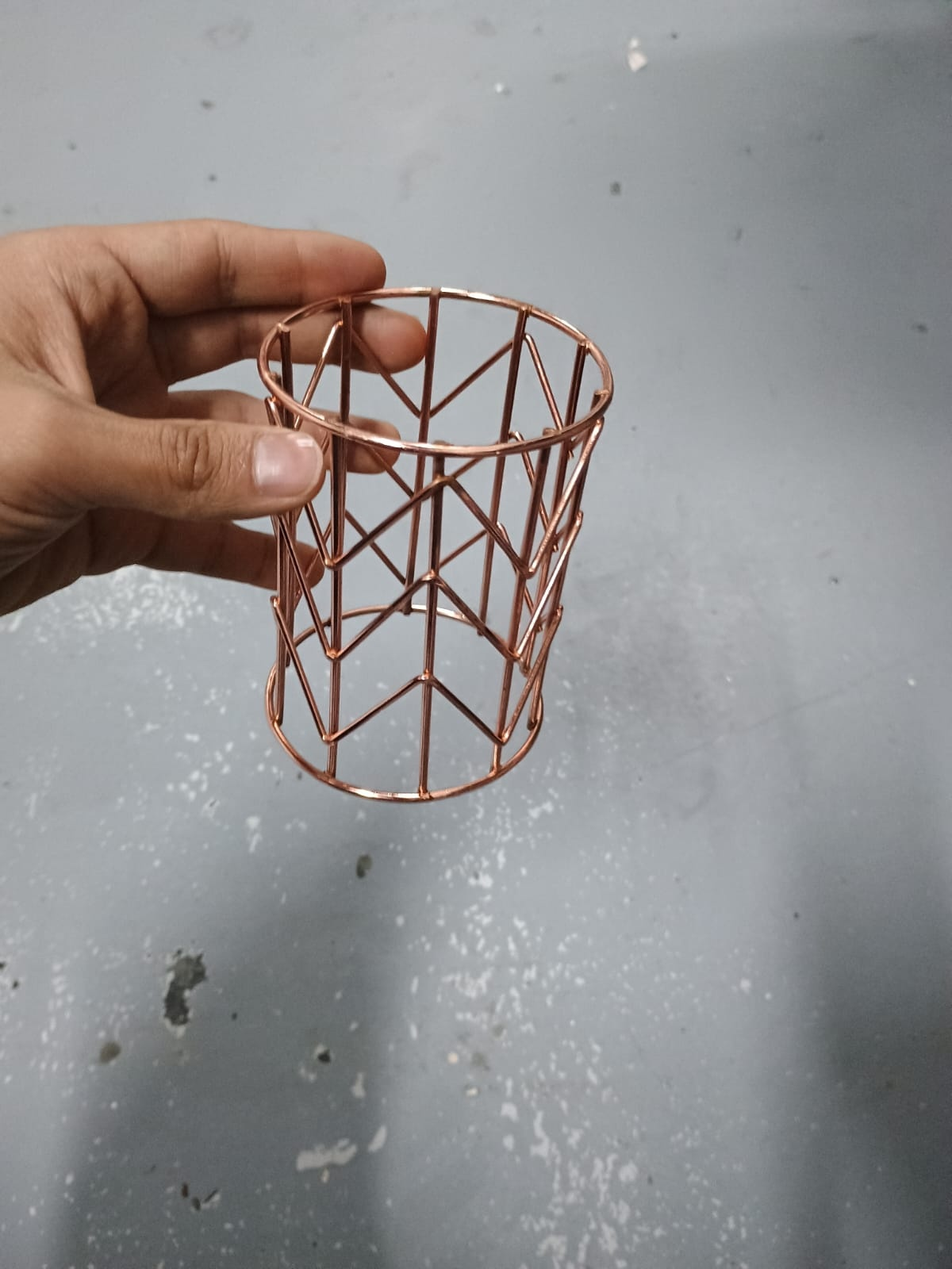Metal: (251, 281, 616, 805)
